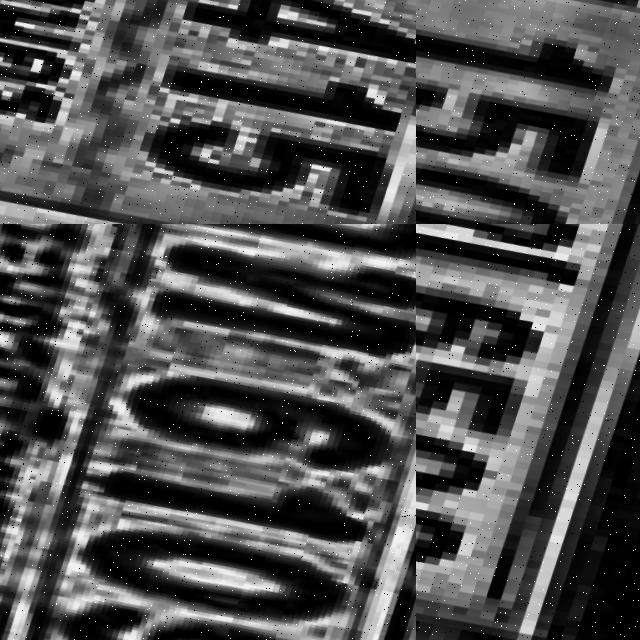license-plate: (0, 224, 416, 640), (0, 0, 416, 224), (416, 224, 640, 640), (416, 0, 640, 224)
